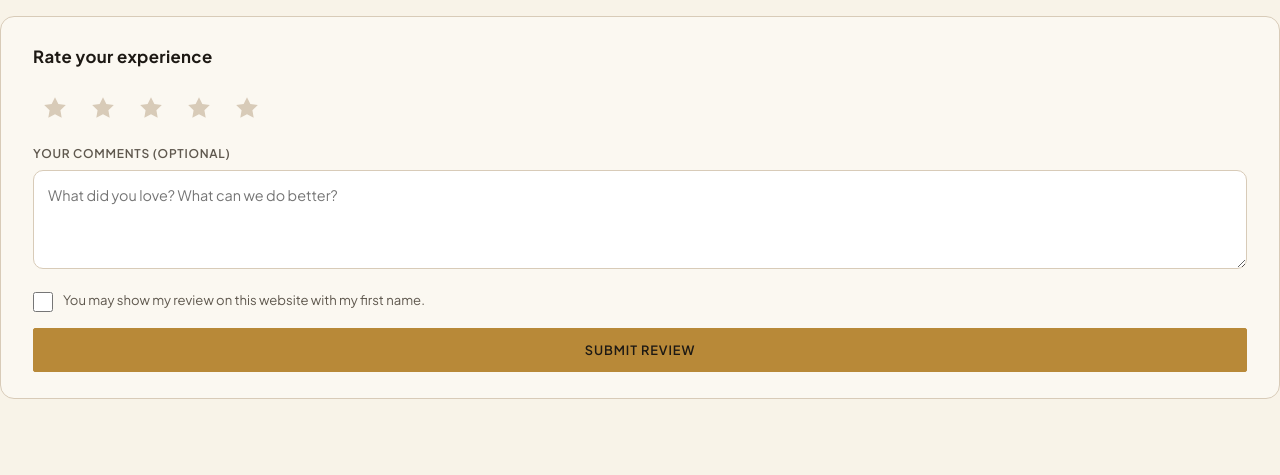
Test: OrderReviewForm › surfaces the server message for a failed verification (403)
Click the radio button named "5 stars — Excellent": (247,108) [225,86,269,130]
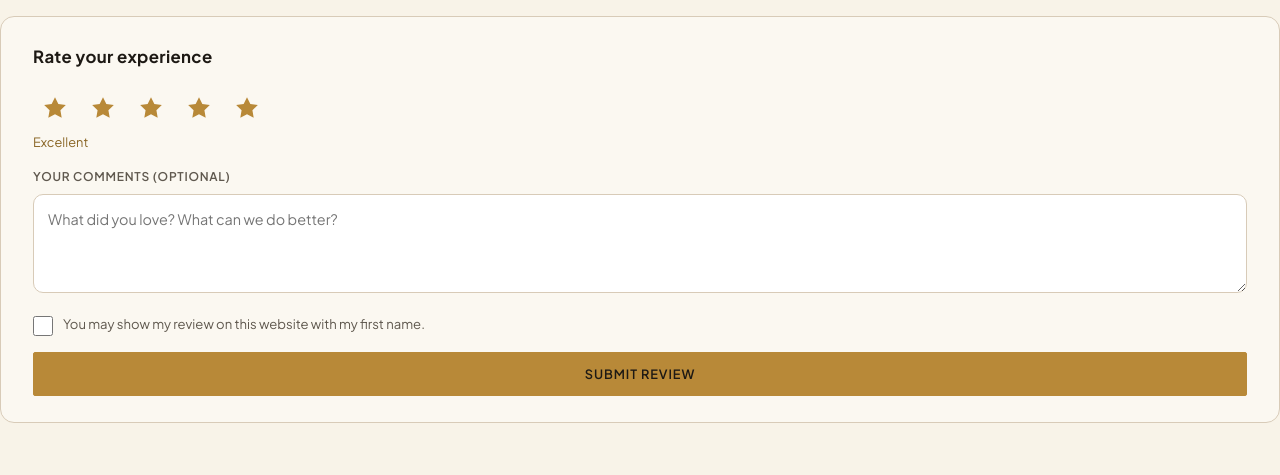
Click the button "Submit Review": (640,374) [33,352,1247,396]
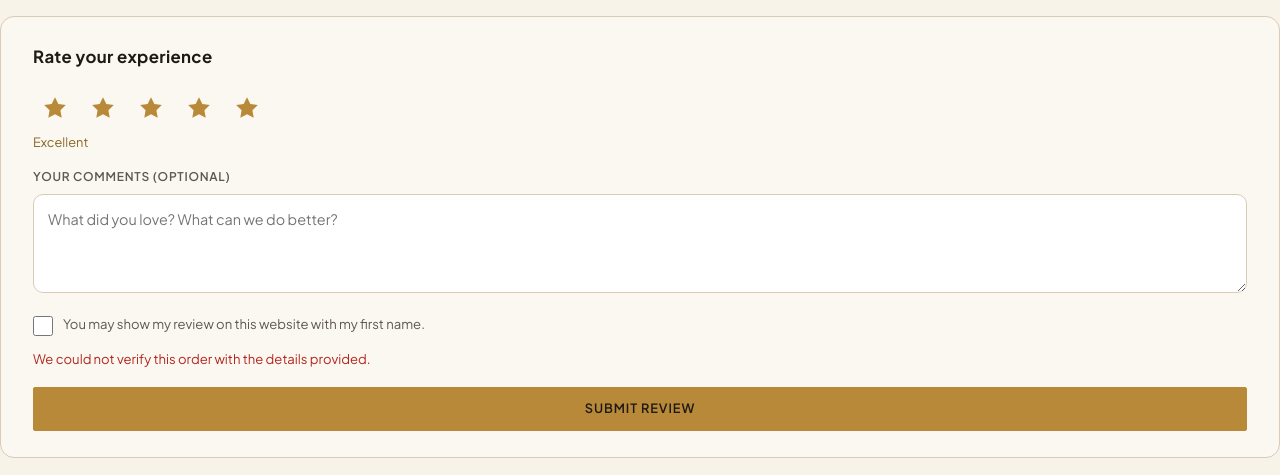
Check: the button "Submit Review" is shown, box [33,386,1247,430]
Check: the message "We could not verify this order with the details provided." is shown, box [33,350,370,367]
